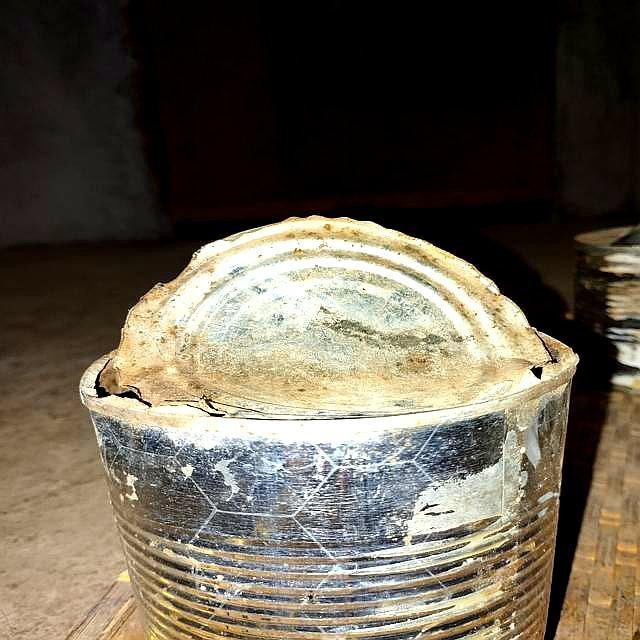Non-biodegradable: (78, 213, 581, 638)
